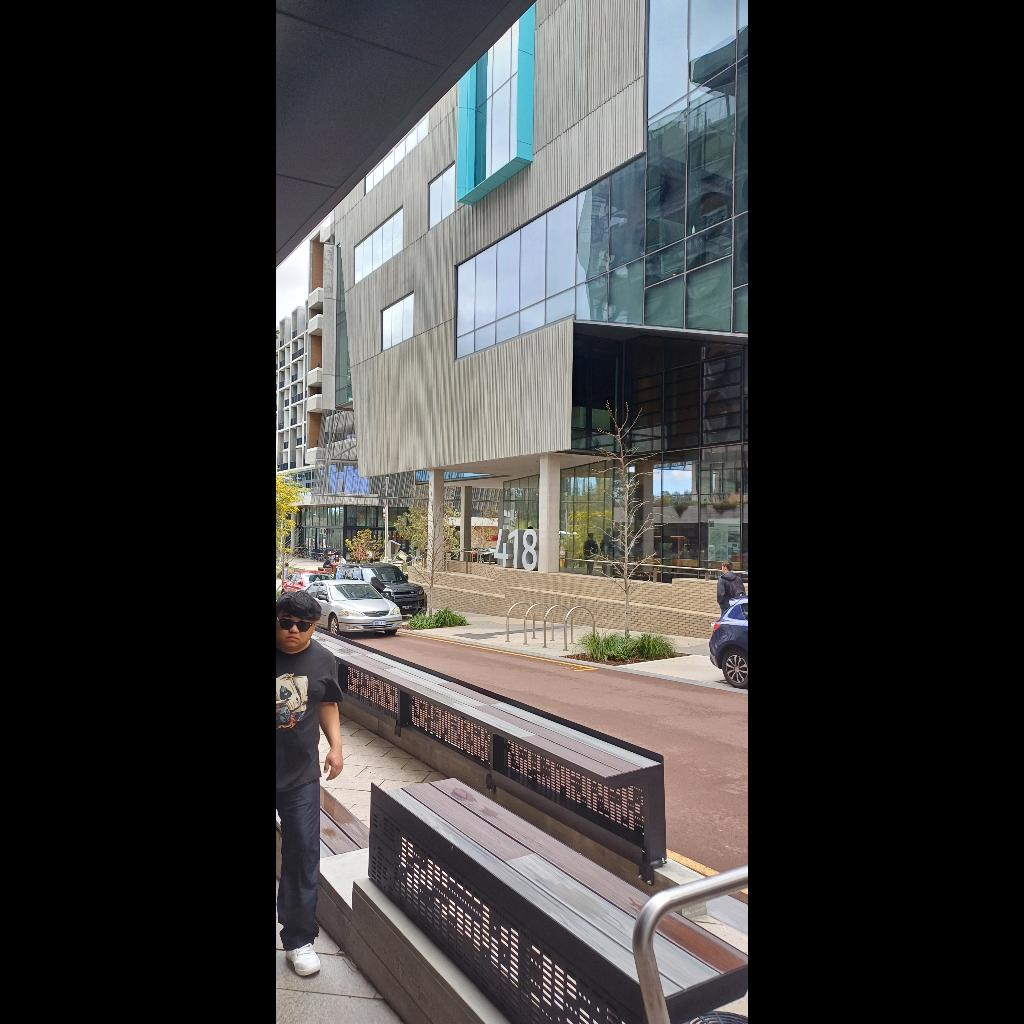BuildingCodes: (492, 527, 540, 571)
